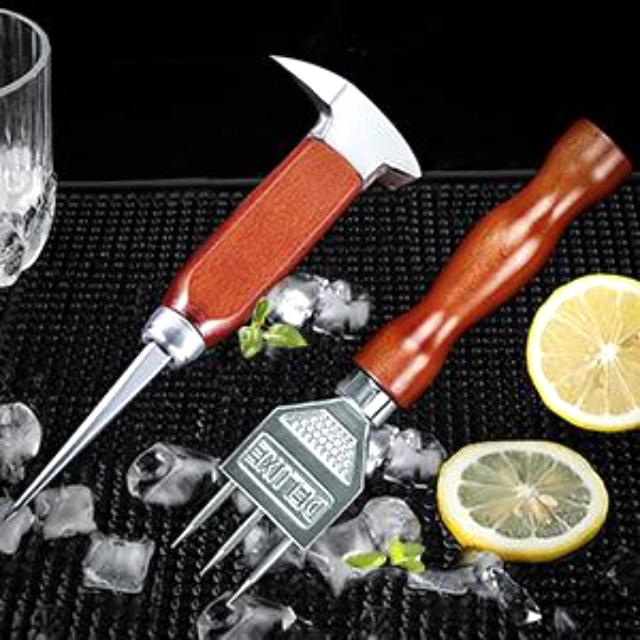ice pick: (172, 118, 634, 604), (1, 56, 419, 524)
